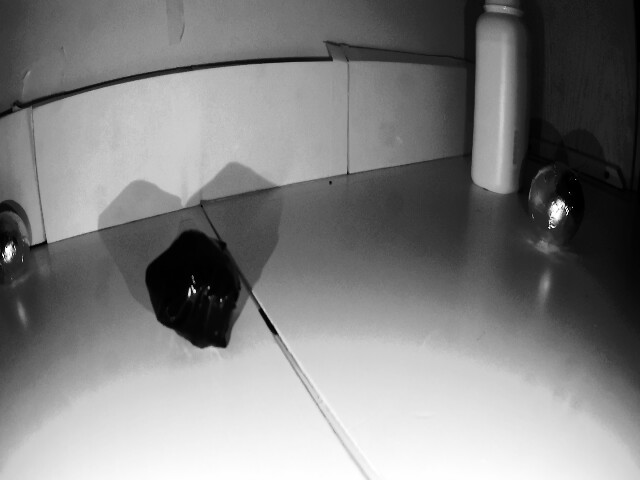black: (519, 164, 602, 268), (0, 200, 47, 281)
silver: (148, 233, 248, 357)
